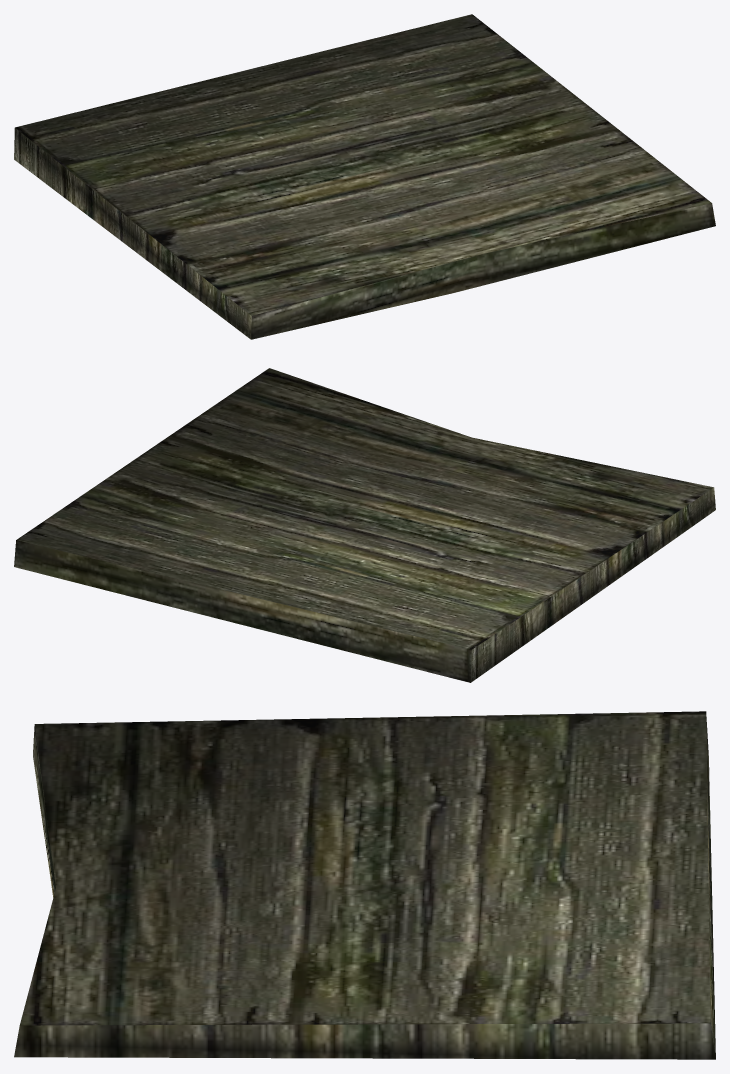
Rendered from ORC_PLANKS_2X3M.glb.
3 views of the same model, one above another, from view 1: azimuth 30°, elevation 25°; view 2: azimuth 150°, elevation 25°; view 3: azimuth 270°, elevation 25° (orthographic). The views are drawn at different scales.
Visible parts, largest first — view 1: Mesh; view 2: Mesh; view 3: Mesh.
Boxes of the visible parts, x1,y1,x2,y2 form: Mesh: (14,14,715,339); Mesh: (14,368,715,682); Mesh: (14,711,715,1059).
Bounding box in the file's own units: 2.2 × 0.2033 × 2.07.
1 material, 1 textured.
